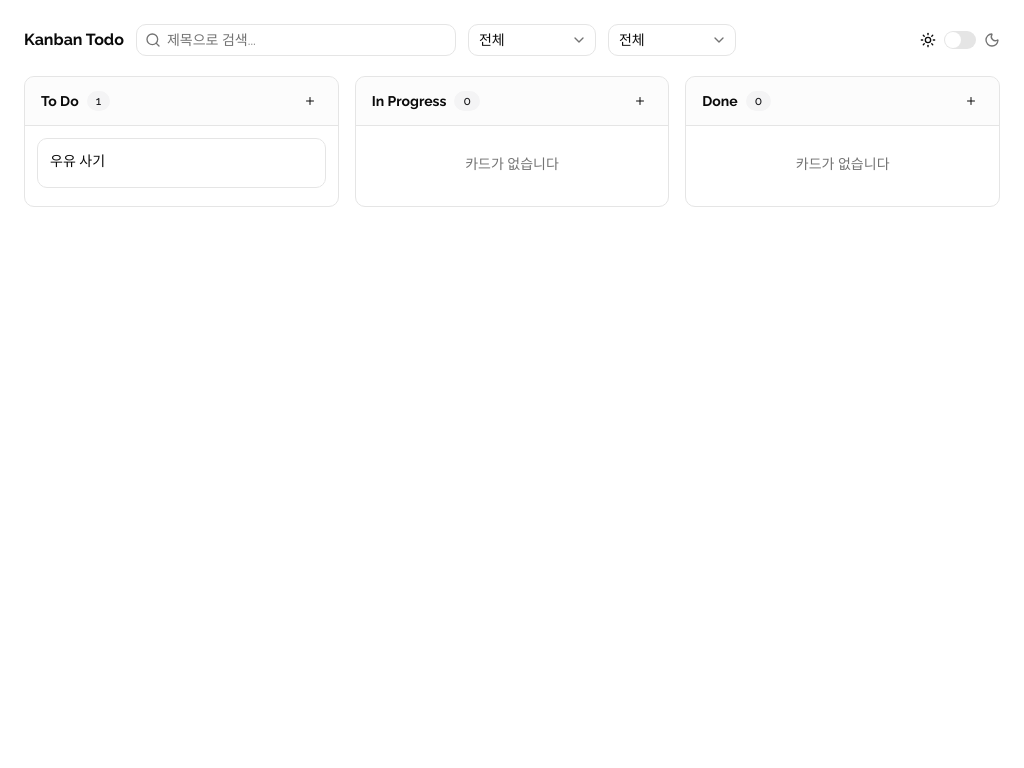
Test case: KANBAN-002: 카드 인라인 편집 › example 1: 카드 클릭 → 상세 다이얼로그 표시
Click the text "우유 사기" at (78,161), box x1=50 y1=151 x2=105 y2=171
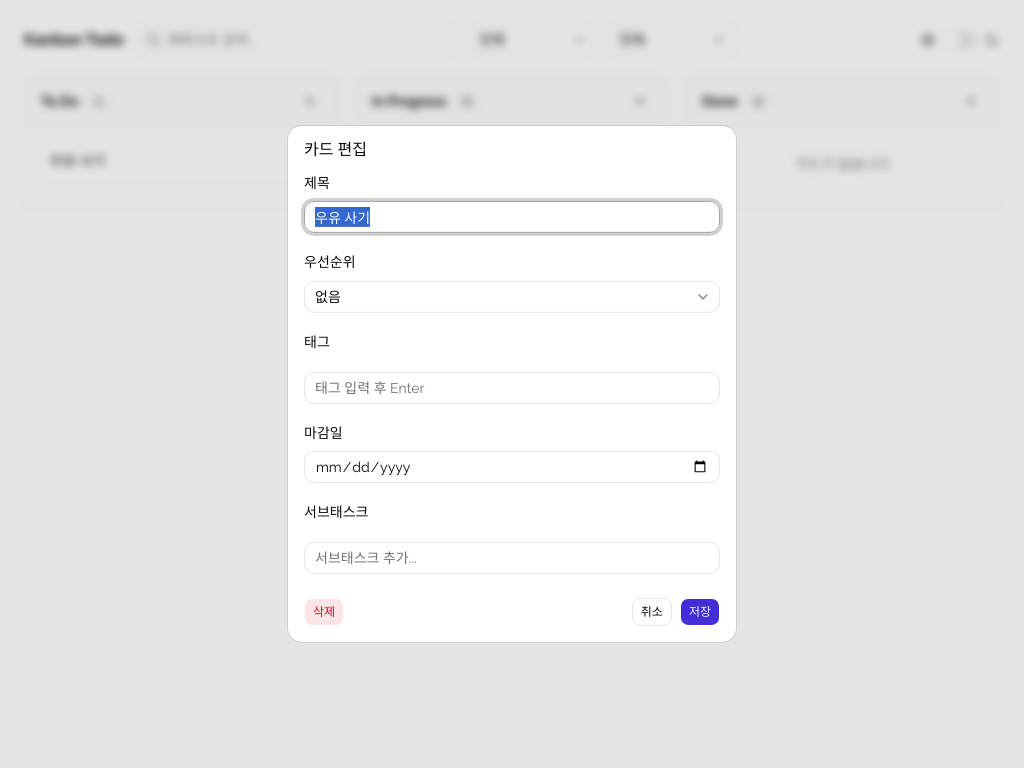
Expected: the dialog is shown, x1=288 y1=126 x2=736 y2=642
Expected: the field showing "우유 사기" is shown, x1=304 y1=201 x2=720 y2=233
